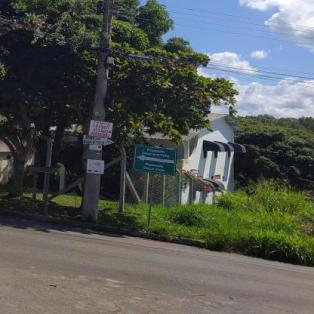Poste: (69, 0, 135, 223)
